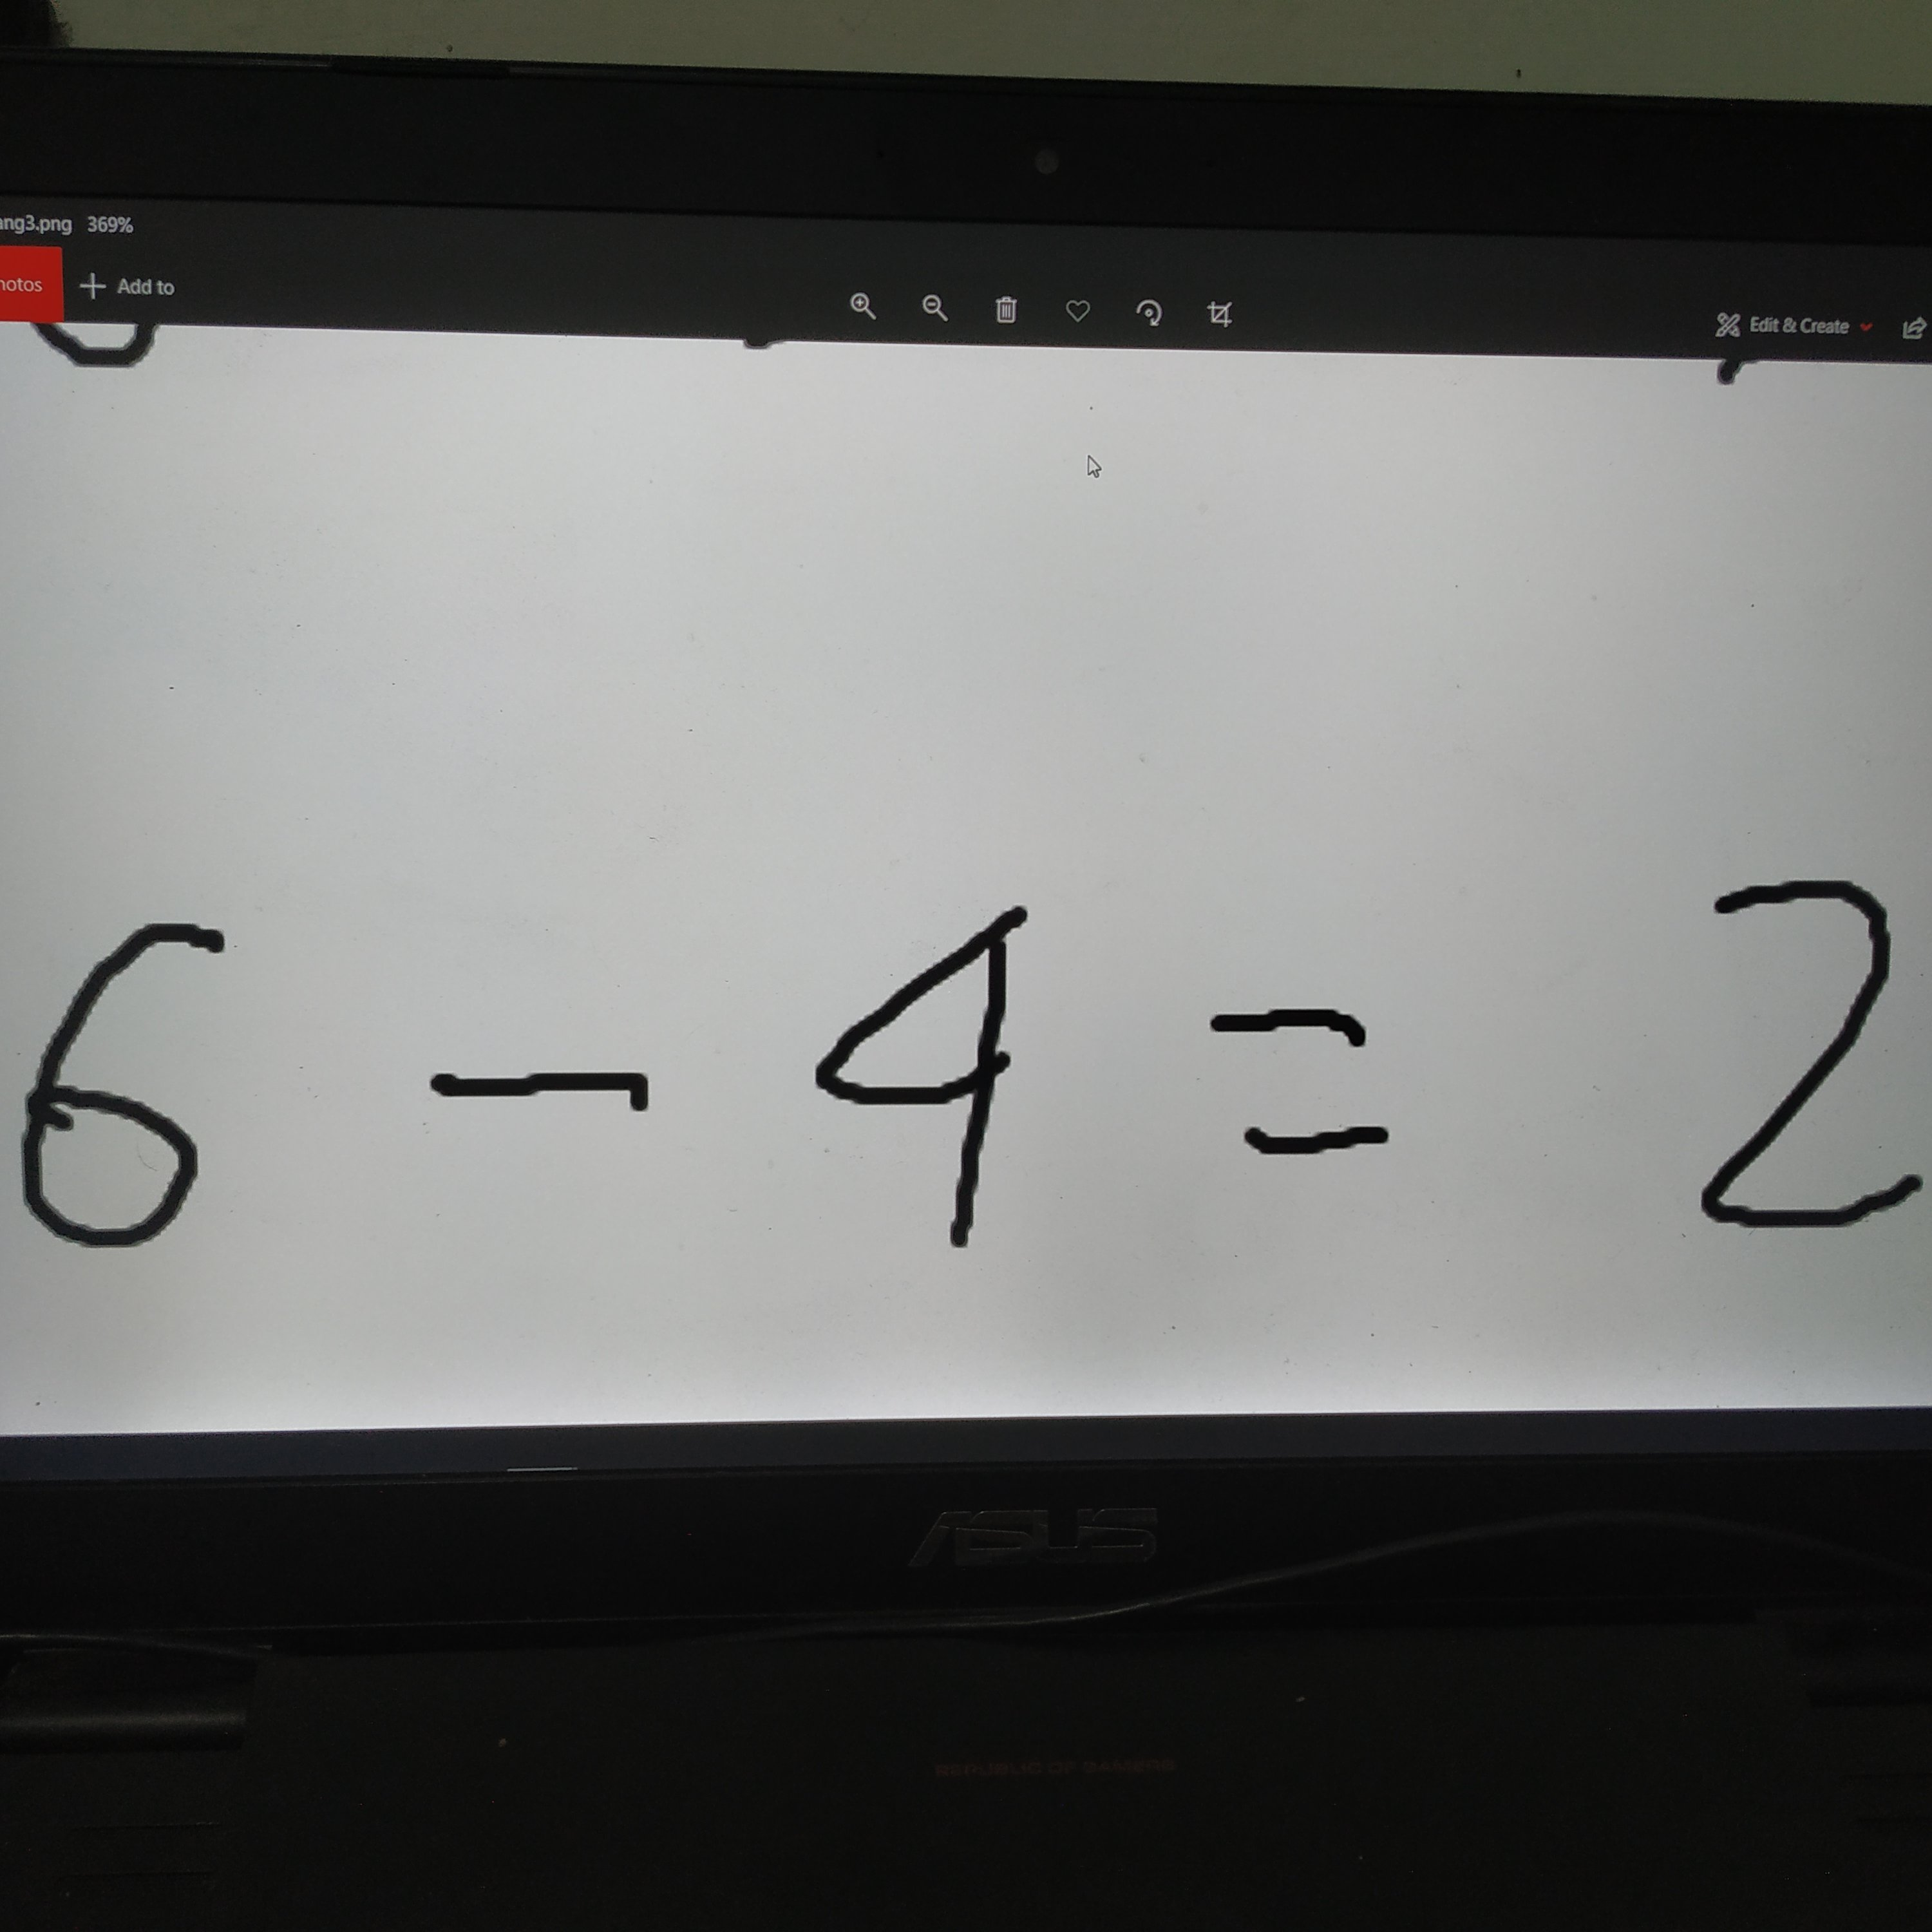equal: (1145, 978, 1463, 1195)
min: (408, 1045, 701, 1138)
num2: (1643, 839, 1932, 1259)
num4: (775, 895, 1106, 1263)
num6: (11, 907, 275, 1269)
